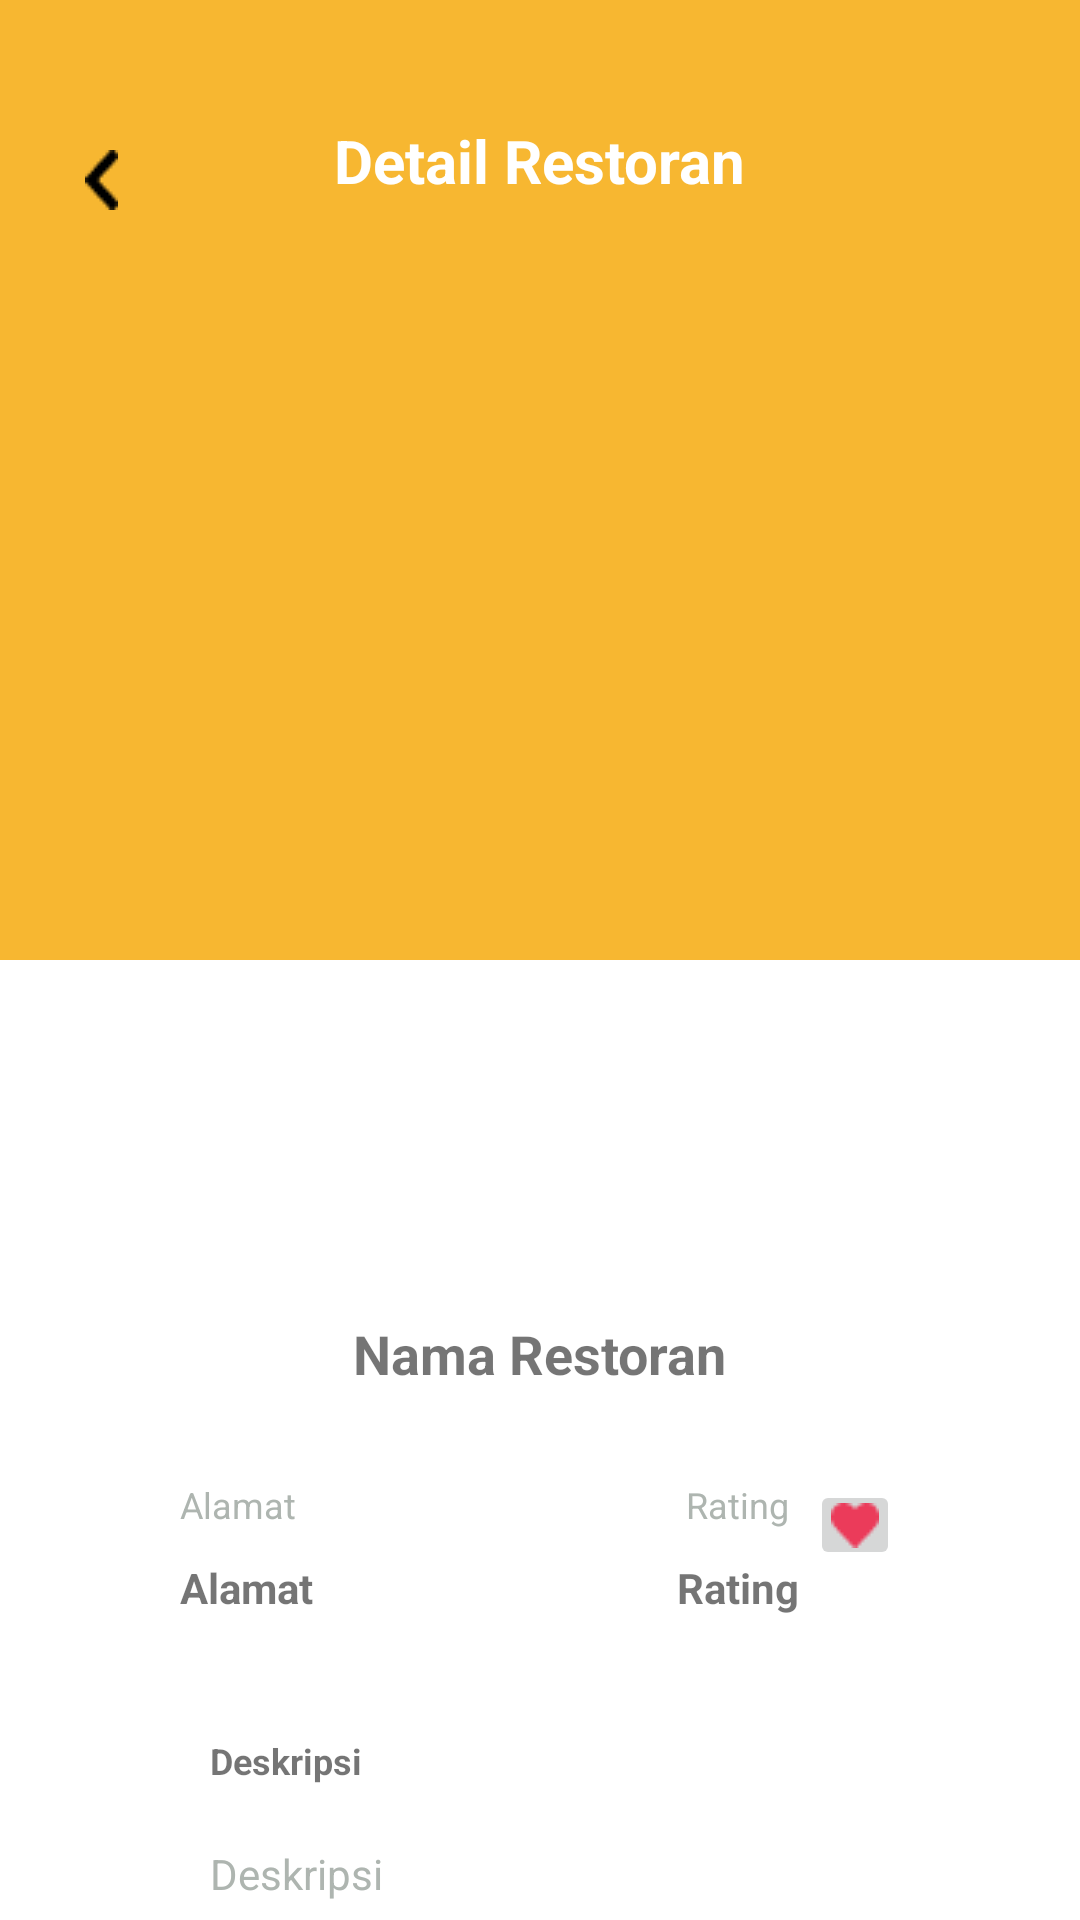

Named icons in this screenshot (1080 x 1920) and their centers, point (x, y):
detail back: point (101, 180)
